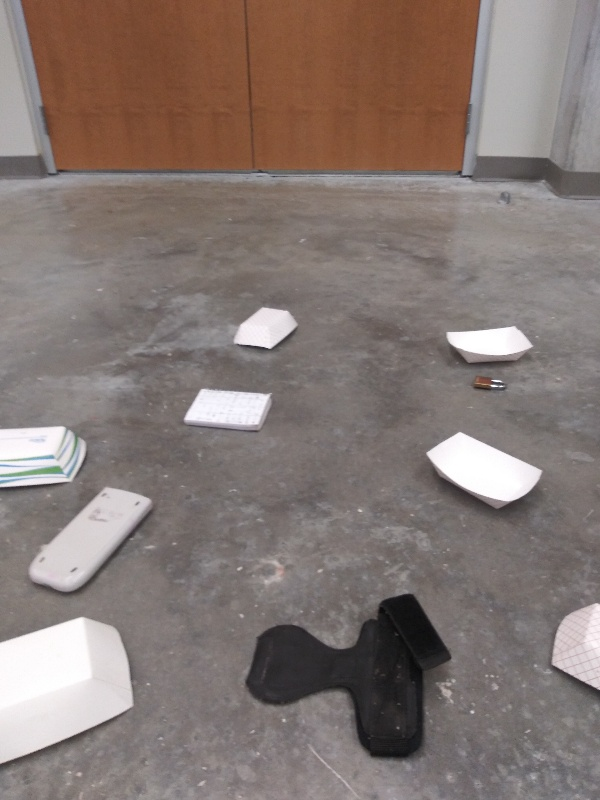plate: (1, 618, 138, 771), (416, 430, 551, 513), (1, 422, 95, 493), (545, 598, 600, 696), (441, 319, 538, 366), (230, 303, 302, 356)
